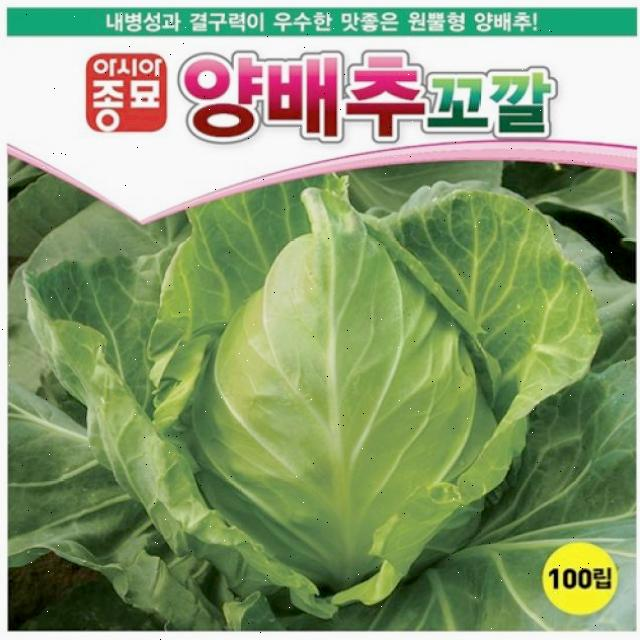cabbage: (32, 204, 552, 614)
